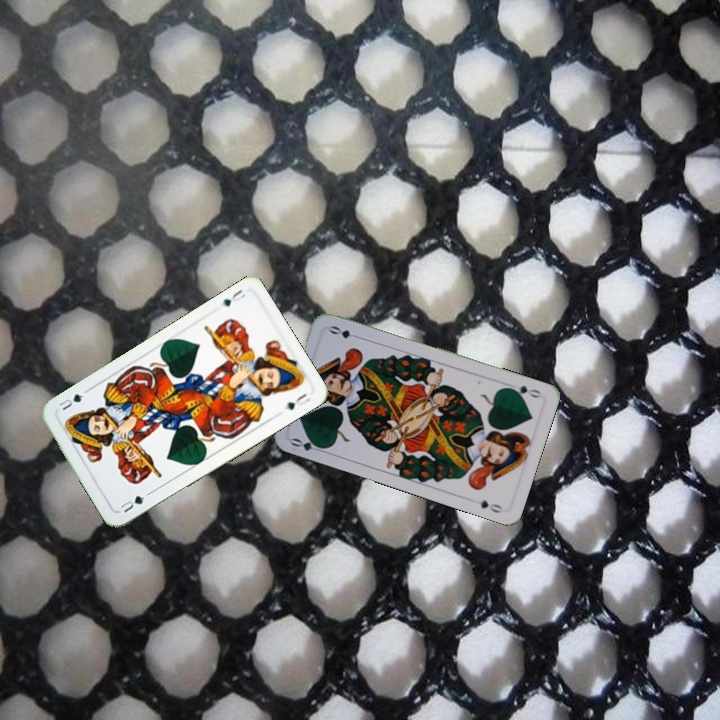GO: (287, 434, 328, 455), (504, 381, 544, 401)
GU: (216, 285, 248, 309), (116, 491, 147, 515)
